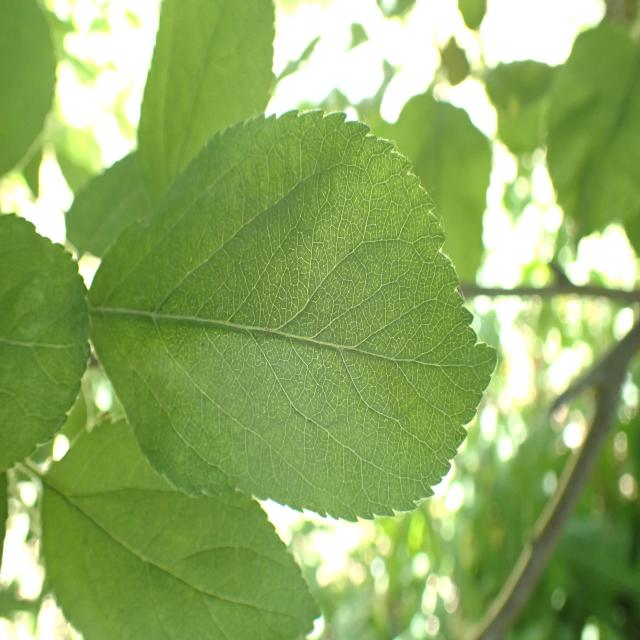healthy: (87, 107, 500, 524), (40, 418, 324, 640), (64, 1, 276, 260), (0, 212, 92, 470), (0, 1, 57, 199)
